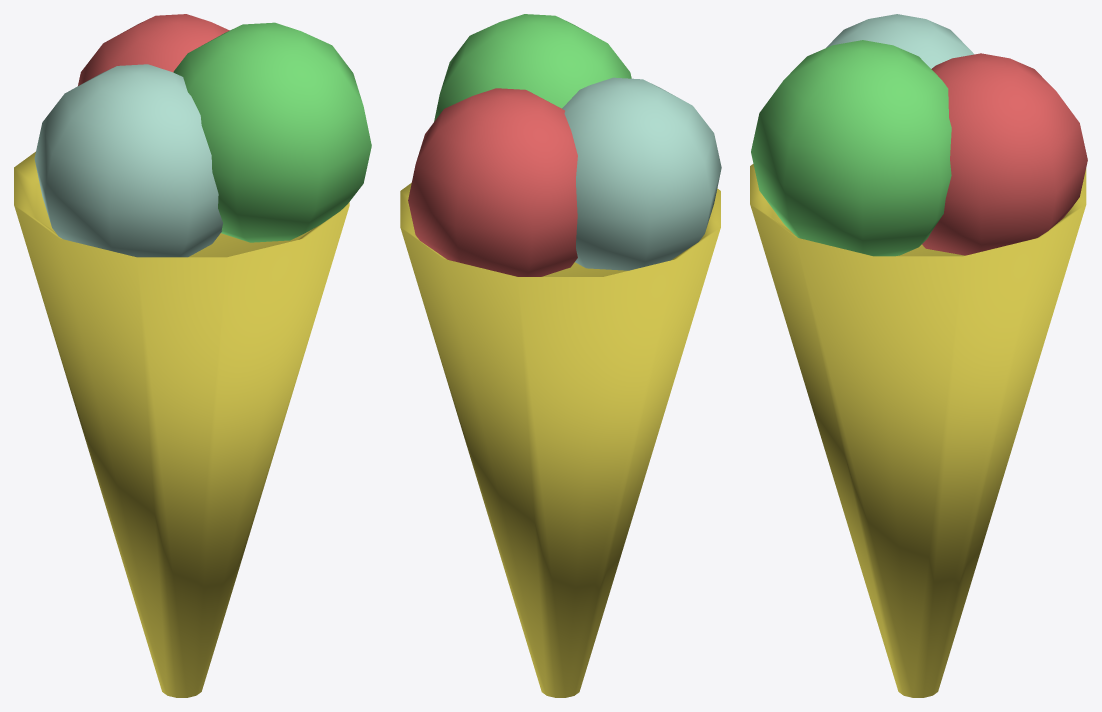
Rendered from icecream.fbx.
The picture shows the model from 3 angles, left to right: view 1: azimuth 30°, elevation 25°; view 2: azimuth 150°, elevation 25°; view 3: azimuth 270°, elevation 25°; orthographic projection. The views are drawn at different scales.
Visible parts, largest first — view 1: Circle.003; view 2: Circle.003; view 3: Circle.003.
Boxes of the visible parts, x1,y1,x2,y2 form: Circle.003: (14,14,371,697); Circle.003: (400,14,721,697); Circle.003: (750,14,1087,697).
Size of the model in its own units: 1.9 by 4.05 by 1.86.
